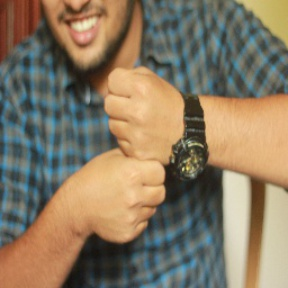G: (74, 64, 181, 239)
